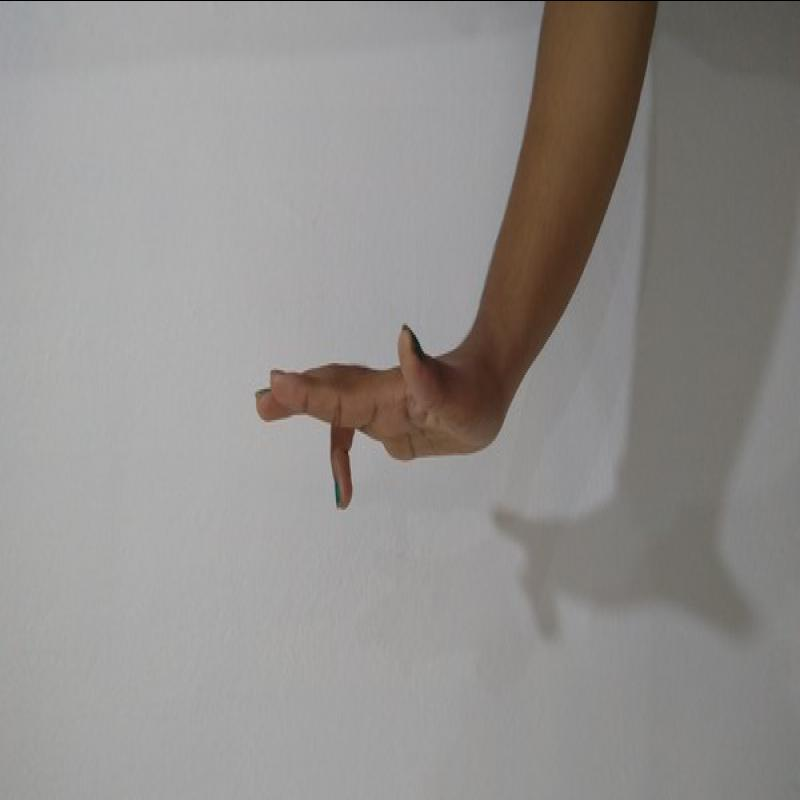Pathaaka: (240, 314, 497, 515)
